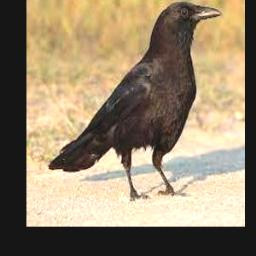Crow: (49, 2, 222, 200)
